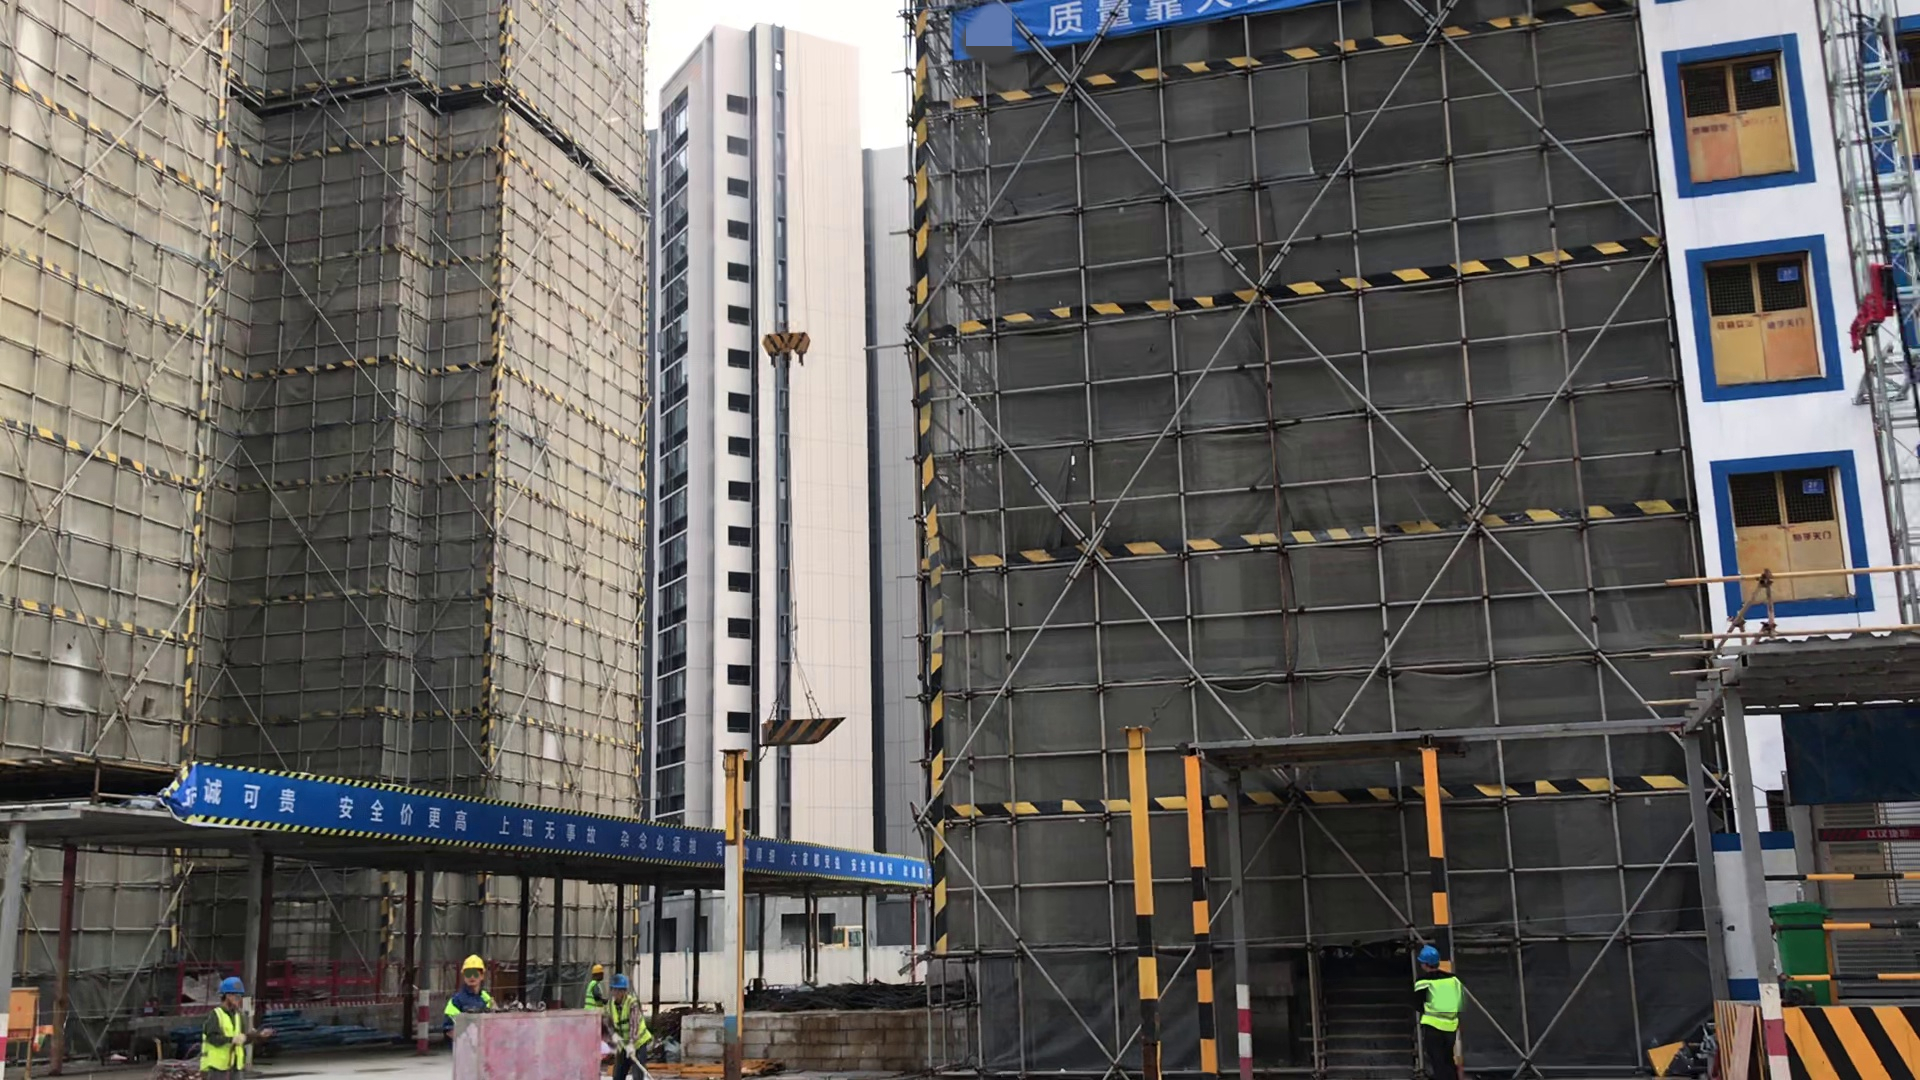ebox: (4, 983, 39, 1042)
fence: (181, 959, 530, 1014)
helmet: (216, 976, 248, 996), (1414, 946, 1443, 965), (458, 955, 487, 972), (608, 975, 633, 990), (589, 967, 605, 976)
hook: (757, 322, 818, 371)
hopper: (758, 715, 847, 750)
person: (1396, 941, 1480, 1080), (190, 975, 281, 1080), (595, 975, 662, 1080), (438, 945, 506, 1028), (578, 959, 620, 1011)
slogan: (200, 764, 918, 886), (1027, 1, 1297, 67)
vest: (206, 1007, 245, 1075), (1413, 979, 1460, 1032), (606, 1003, 649, 1047), (445, 992, 499, 1015), (582, 985, 608, 1011)
